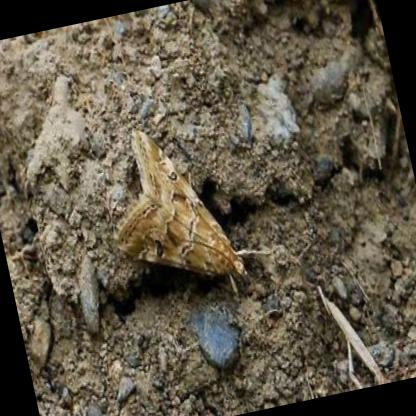Hellula undalis: (113, 124, 271, 281)
